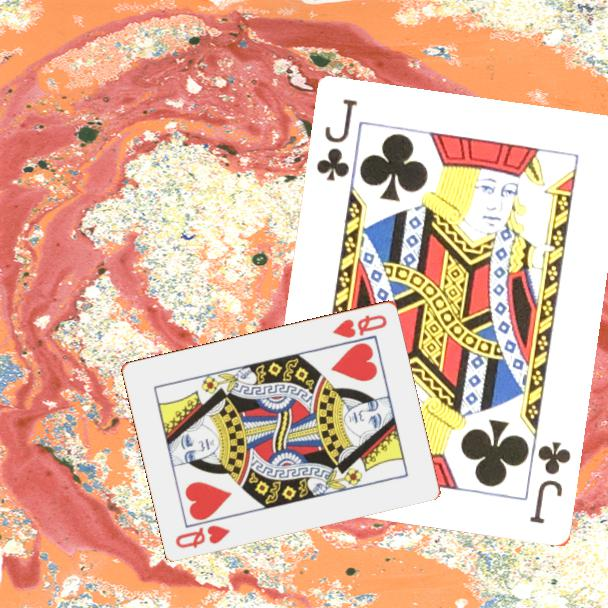c11: (313, 96, 361, 185), (527, 438, 574, 528)
h12: (329, 311, 390, 341), (172, 521, 233, 551)
